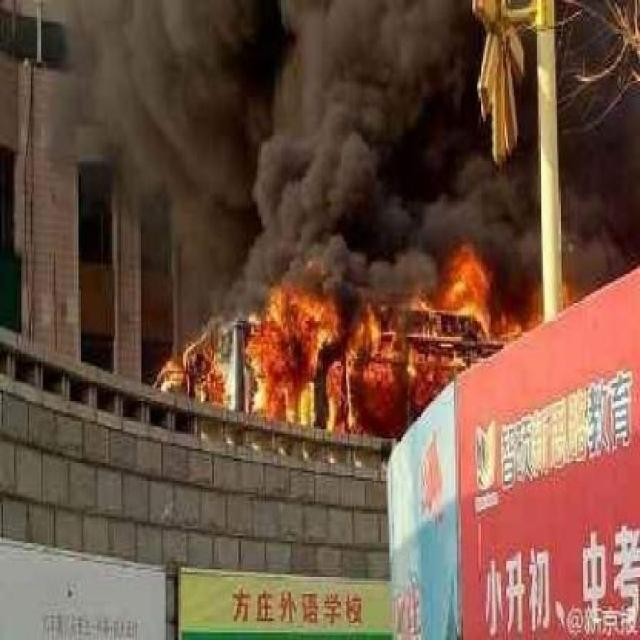Fire: (152, 237, 574, 438)
